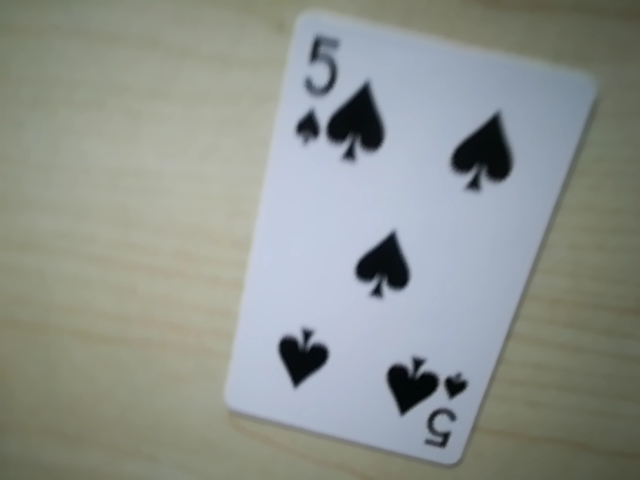ht 5: (284, 22, 351, 164), (413, 369, 470, 461)
